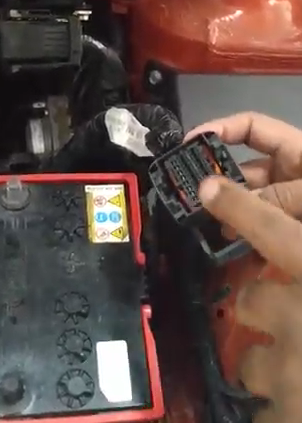connector: (143, 127, 270, 273)
